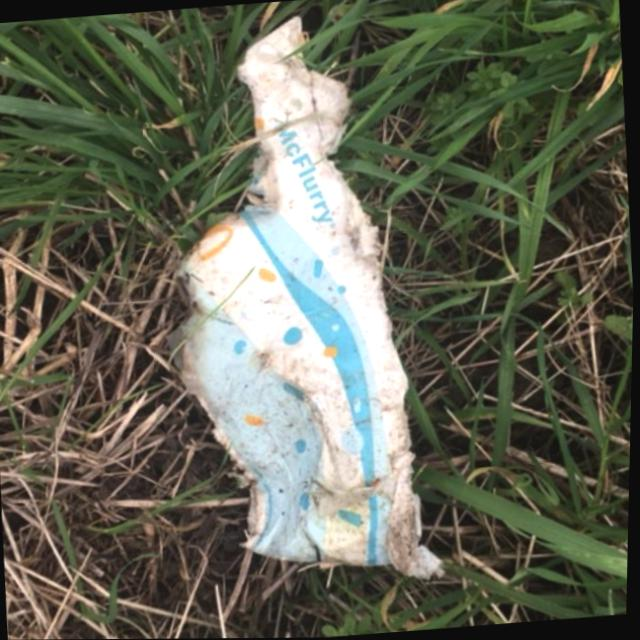Paper: (152, 2, 461, 601)
